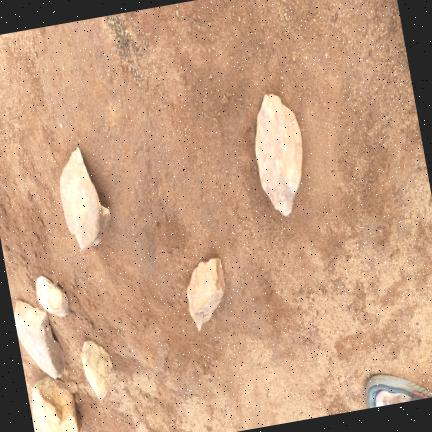Rocks: (256, 93, 302, 214), (60, 147, 110, 249), (14, 299, 65, 377), (32, 376, 81, 431), (187, 257, 224, 329), (82, 340, 112, 398), (36, 275, 69, 315)
